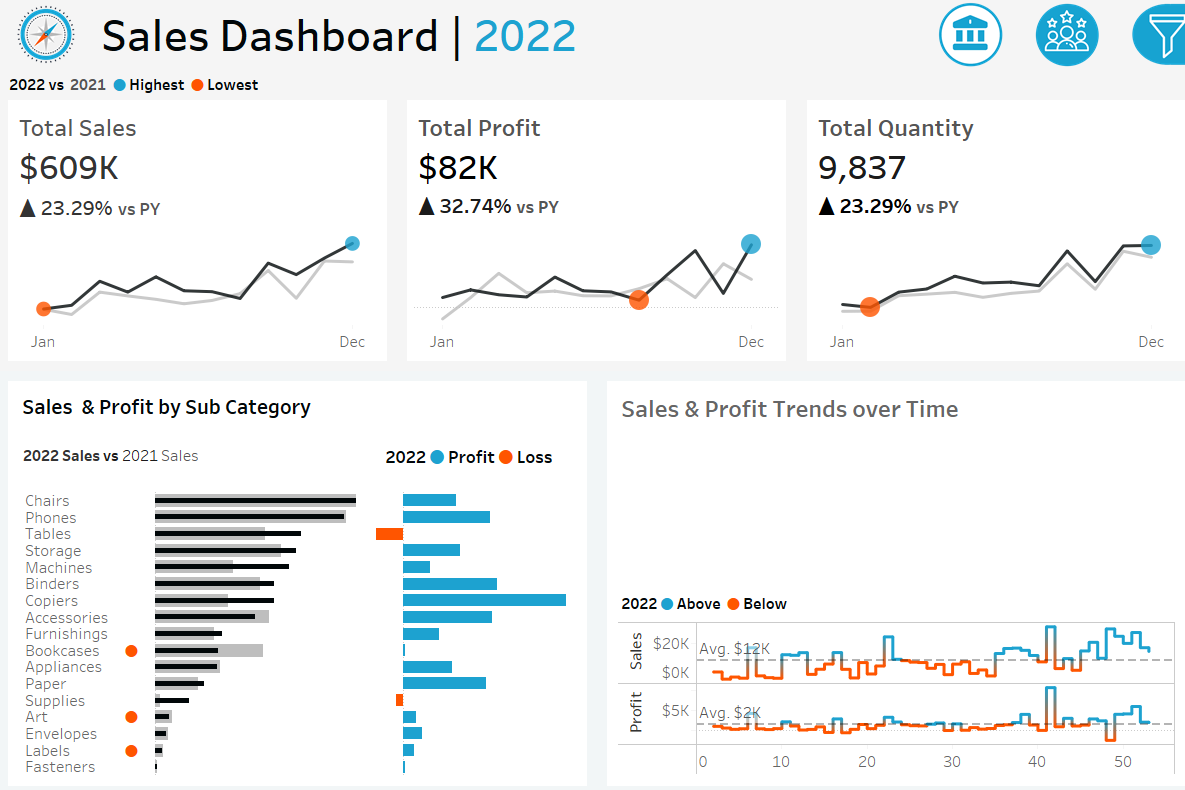

The dashboard page shown, as its layout file describes it:
{"tool":"tableau","page":{"name":"Sales Dashboard","canvas":[1200,800],"ordinal":1},"visuals":[{"type":"image","param":"C:/Users/sampath/Downloads/Sales-Dashboard-Materials/Sales Dashboard Materials/D","box":[1,1,96,72]},{"type":"text","box":[97,1,717,72]},{"type":"dashboard-object","box":[925,1,97,73]},{"type":"dashboard-object","box":[1022,1,96,73]},{"type":"blank","box":[938,10,250,92]},{"type":"worksheet","title":"Legends KPI","mark":"Automatic","box":[1,73,1198,30]},{"type":"text","box":[938,102,250,40]},{"type":"worksheet","title":"KPI Sales","mark":"Automatic","rows":["Calculation_276689913038614531"],"cols":["Order Date"],"box":[1,103,399.3,271]},{"type":"worksheet","title":"KPI Profit","mark":"Automatic","rows":["Max/Min Sales (copy)_276689913066995731"],"cols":["Order Date"],"box":[400.3,103,399.3,271]},{"type":"worksheet","title":"KPI Quanity","mark":"Automatic","rows":["Max/Min Sales (copy)_276689913073639448"],"cols":["Order Date"],"box":[799.7,103,399.3,271]},{"type":"blank","box":[938,142,250,40]},{"type":"parameter","param":"[Parameters].[Parameter 1]","box":[938,182,250,64]},{"type":"text","box":[938,246,250,40]},{"type":"filter","title":"KPI Sales","param":"[federated.0ynalc80prbm5z1ay8zk4111c4gk].[none:Category:nk]","box":[938,286,250,61]},{"type":"filter","title":"KPI Sales","param":"[federated.0ynalc80prbm5z1ay8zk4111c4gk].[none:Sub-Category:nk]","box":[938,347,250,61]},{"type":"text","box":[18,391,565,36]},{"type":"text","box":[617,391,565,40]},{"type":"blank","box":[938,408,250,60]},{"type":"worksheet","title":"Legends Subcategory","mark":"Automatic","box":[18,427,363,64]},{"type":"text","box":[381,427,202,64]},{"type":"text","box":[938,468,250,40]},{"type":"worksheet","title":"Subcategory Comparision","mark":"Bar","rows":["Sub-Category","Calculation_276689913084981275"],"cols":["Calculation_276689913037426690","Calculation_276689913036423169","CY Sales (copy)_276689913064972304"],"box":[18,491,565,290.9]},{"type":"filter","title":"KPI Sales","param":"[federated.0ynalc80prbm5z1ay8zk4111c4gk].[none:Region:nk]","box":[938,508,250,61]},{"type":"filter","title":"KPI Sales","param":"[federated.0ynalc80prbm5z1ay8zk4111c4gk].[none:State:nk]","box":[938,569,250,61]},{"type":"text","box":[617,592,565,29]},{"type":"worksheet","title":"Weekly Trends","mark":"Automatic","rows":["Calculation_276689913036423169","CY Sales (copy)_276689913064972304"],"cols":["Order Date"],"box":[617,621,565,161]},{"type":"filter","title":"KPI Sales","param":"[federated.0ynalc80prbm5z1ay8zk4111c4gk].[none:City:nk]","box":[938,630,250,61]}]}

Visuals, with their boxes in screenshot pixels (x1, y1, x2, y2), scaled from the page's 1200x800 canvas onto the 1185x790 screenshot:
image: (x1=1, y1=1, x2=96, y2=72)
text: (x1=96, y1=1, x2=804, y2=72)
dashboard-object: (x1=913, y1=1, x2=1009, y2=73)
dashboard-object: (x1=1009, y1=1, x2=1104, y2=73)
blank: (x1=926, y1=10, x2=1173, y2=101)
"Legends KPI" worksheet: (x1=1, y1=72, x2=1184, y2=102)
text: (x1=926, y1=101, x2=1173, y2=140)
"KPI Sales" worksheet: (x1=1, y1=102, x2=395, y2=369)
"KPI Profit" worksheet: (x1=395, y1=102, x2=790, y2=369)
"KPI Quanity" worksheet: (x1=790, y1=102, x2=1184, y2=369)
blank: (x1=926, y1=140, x2=1173, y2=180)
parameter: (x1=926, y1=180, x2=1173, y2=243)
text: (x1=926, y1=243, x2=1173, y2=282)
"KPI Sales" filter: (x1=926, y1=282, x2=1173, y2=343)
"KPI Sales" filter: (x1=926, y1=343, x2=1173, y2=403)
text: (x1=18, y1=386, x2=576, y2=422)
text: (x1=609, y1=386, x2=1167, y2=426)
blank: (x1=926, y1=403, x2=1173, y2=462)
"Legends Subcategory" worksheet: (x1=18, y1=422, x2=376, y2=485)
text: (x1=376, y1=422, x2=576, y2=485)
text: (x1=926, y1=462, x2=1173, y2=502)
"Subcategory Comparision" worksheet (Bar marks): (x1=18, y1=485, x2=576, y2=772)
"KPI Sales" filter: (x1=926, y1=502, x2=1173, y2=562)
"KPI Sales" filter: (x1=926, y1=562, x2=1173, y2=622)
text: (x1=609, y1=585, x2=1167, y2=613)
"Weekly Trends" worksheet: (x1=609, y1=613, x2=1167, y2=772)
"KPI Sales" filter: (x1=926, y1=622, x2=1173, y2=682)
